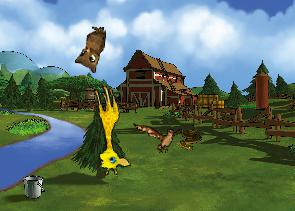eagle: (133, 114, 186, 158)
giraffe: (82, 83, 132, 177)
owl: (73, 23, 106, 73)
